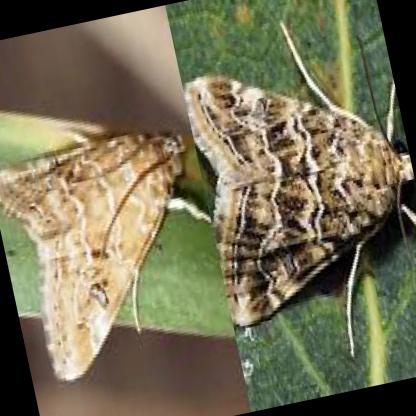Hellula undalis: (185, 10, 414, 362), (0, 114, 209, 385)
